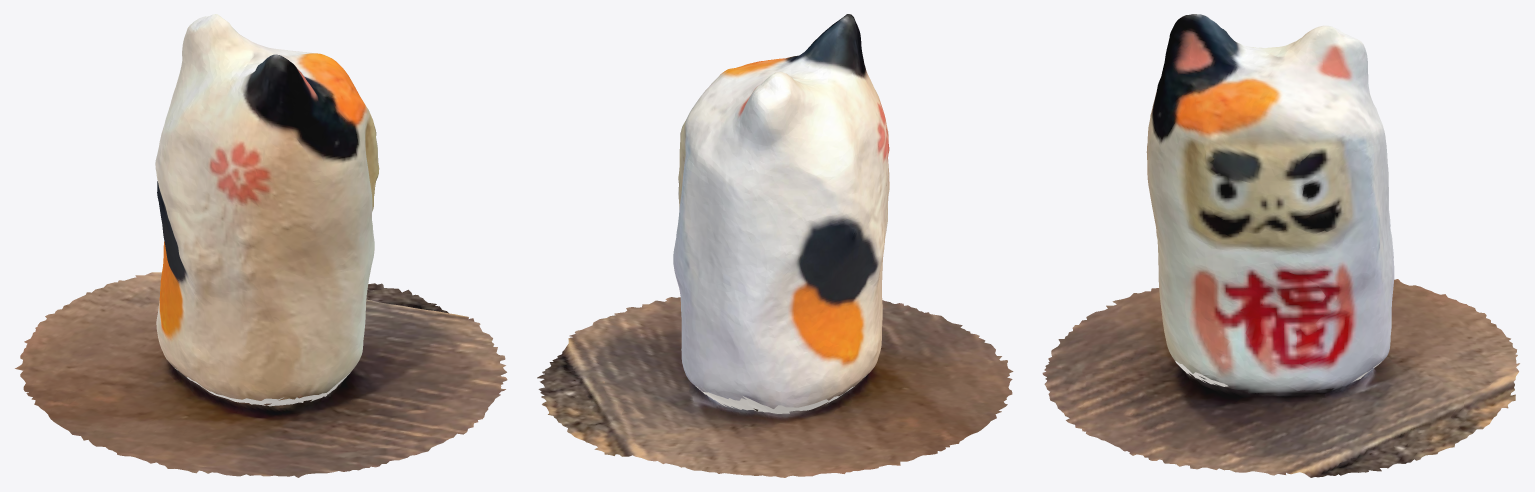
3 views of the same model, side by side, from view 1: azimuth 30°, elevation 25°; view 2: azimuth 150°, elevation 25°; view 3: azimuth 270°, elevation 25° (orthographic). The views are drawn at different scales.
Visible parts, largest first — view 1: Object_2, Object_3; view 2: Object_2, Object_3; view 3: Object_2, Object_3.
Part boxes in pixels (x1,y1,x2,y2): Object_2: [15, 14, 507, 477]; Object_3: [156, 16, 325, 369]; Object_2: [537, 14, 1013, 477]; Object_3: [684, 21, 889, 407]; Object_2: [1042, 14, 1519, 477]; Object_3: [1251, 35, 1394, 349].
Bounding box in the file's own units: 1.79 × 1.46 × 1.79.
Materials: 2 (2 with a texture image).
